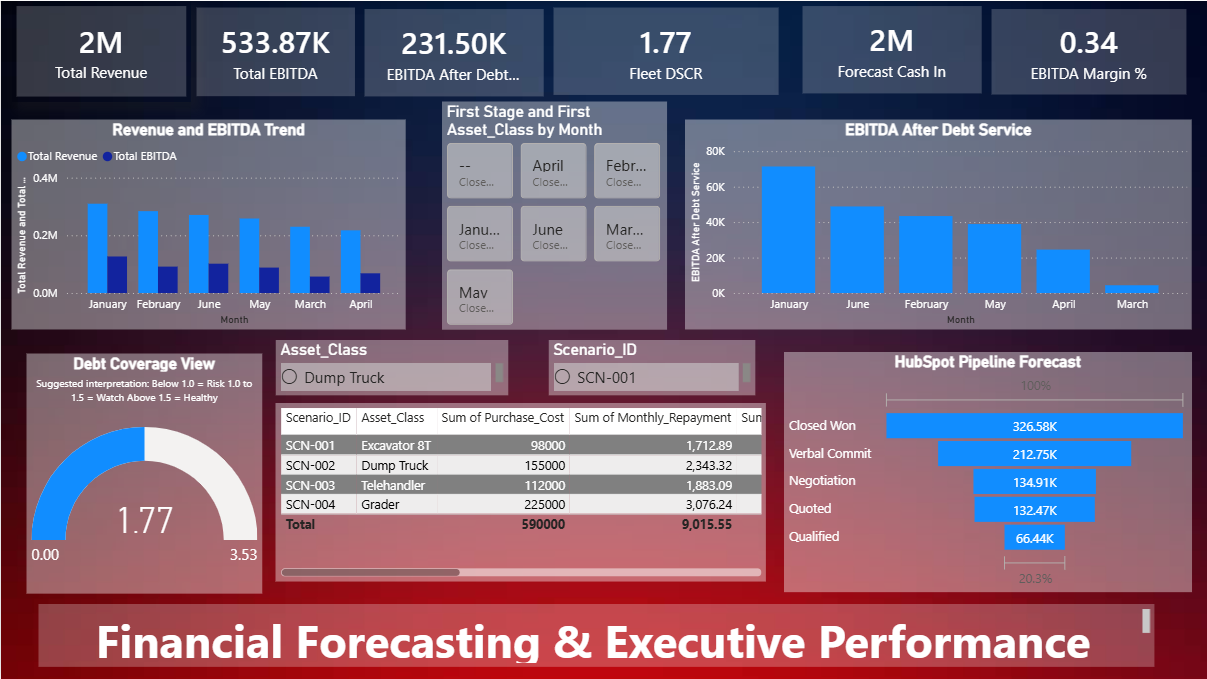

This screenshot's page, from the dashboard's own definition file:
{"tool":"powerbi","page":{"name":"Financial Forecasting & Executive Performance Dashboard","canvas":[1280,720],"ordinal":1},"visuals":[{"type":"cardVisual","fields":{"Data":["KPIMeasures.Total Revenue"]},"box":[11.1,0,190.9,106.6],"z":0},{"type":"cardVisual","fields":{"Data":["KPIMeasures.Total EBITDA"]},"box":[202,1.6,178.1,105],"z":1000},{"type":"cardVisual","fields":{"Data":["KPIMeasures.EBITDA After Debt Service"]},"box":[380.2,3.2,200.4,103.4],"z":2000},{"type":"cardVisual","fields":{"Data":["KPIMeasures.Fleet DSCR"]},"box":[580.6,1.6,249.7,103.4],"z":3000},{"type":"cardVisual","fields":{"Data":["KPIMeasures.Forecast Cash In"]},"box":[844.6,0,200.4,103.4],"z":4000},{"type":"cardVisual","fields":{"Data":["KPIMeasures.EBITDA Margin %"]},"box":[1045,3.2,217.9,101.8],"z":5000},{"type":"advancedSlicerVisual","fields":{"Values":["FinancialActualsTable.Month"],"Label":["Min(HubSpot_Pipeline.Stage)"]},"box":[467.6,106.6,238.6,241.8],"z":6000},{"type":"textbox","box":[39.8,639.4,1183.4,66.8],"z":7000},{"type":"lineClusteredColumnComboChart","title":"Revenue and EBITDA Trend","fields":{"Y":["KPIMeasures.Total Revenue","KPIMeasures.Total EBITDA"],"Category":["FinancialActualsTable.Month"]},"box":[11.1,125.7,418.3,222.7],"z":8000},{"type":"columnChart","title":"EBITDA After Debt Service","fields":{"Category":["FinancialActualsTable.Month"],"Y":["KPIMeasures.EBITDA After Debt Service"]},"box":[725.3,125.7,537.6,222.7],"z":9000},{"type":"funnel","title":"HubSpot Pipeline Forecast","fields":{"Y":["Sum(HubSpotPipelineTable.Weighted_Value)"],"Category":["HubSpotPipelineTable.Stage"]},"box":[830.3,372.2,432.6,254.5],"z":10000},{"type":"gauge","title":"Debt Coverage View","fields":{"Y":["KPIMeasures.Fleet DSCR"]},"box":[27,373.8,249.7,254.5],"z":11000},{"type":"tableEx","fields":{"Values":["What_If_Asset_Purchase.Scenario_ID","What_If_Asset_Purchase.Asset_Class","Sum(What_If_Asset_Purchase.Purchase_Cost)","Sum(What_If_Asset_Purchase.Monthly_Repayment)","Sum(What_If_Asset_Purchase.Expected_Monthly_Revenue)","Sum(What_If_Asset_Purchase.Forecast_EBITDA_Impact)","Sum(What_If_Asset_Purchase.Forecast_DSCR_Impact)","Sum(What_If_Asset_Purchase.Payback_Months)","What_If_Asset_Purchase.Recommendation"]},"box":[291.1,426.3,520.1,189.3],"z":12000},{"type":"listSlicer","fields":{"Values":["What_If_Asset_Purchase.Asset_Class"]},"box":[291.1,359.5,246.5,58.9],"z":12001},{"type":"listSlicer","fields":{"Values":["What_If_Asset_Purchase.Scenario_ID"]},"box":[580.6,359.5,219.5,58.9],"z":12002}]}

Visuals, with their boxes in screenshot pixels (x1, y1, x2, y2), scaled from the page's 1280x720 canvas onto the 1207x679 screenshot:
cardVisual - KPIMeasures.Total Revenue: x1=10 y1=0 x2=190 y2=101
cardVisual - KPIMeasures.Total EBITDA: x1=190 y1=2 x2=358 y2=101
cardVisual - KPIMeasures.EBITDA After Debt Service: x1=359 y1=3 x2=547 y2=101
cardVisual - KPIMeasures.Fleet DSCR: x1=547 y1=2 x2=783 y2=99
cardVisual - KPIMeasures.Forecast Cash In: x1=796 y1=0 x2=985 y2=98
cardVisual - KPIMeasures.EBITDA Margin %: x1=985 y1=3 x2=1191 y2=99
advancedSlicerVisual - FinancialActualsTable.Month x Min(HubSpot_Pipeline.Stage): x1=441 y1=101 x2=666 y2=329
textbox: x1=38 y1=603 x2=1153 y2=666
"Revenue and EBITDA Trend" lineClusteredColumnComboChart: x1=10 y1=119 x2=405 y2=329
"EBITDA After Debt Service" columnChart: x1=684 y1=119 x2=1191 y2=329
"HubSpot Pipeline Forecast" funnel: x1=783 y1=351 x2=1191 y2=591
"Debt Coverage View" gauge: x1=25 y1=353 x2=261 y2=593
tableEx - What_If_Asset_Purchase.Scenario_ID x What_If_Asset_Purchase.Asset_Class: x1=274 y1=402 x2=765 y2=581
listSlicer - What_If_Asset_Purchase.Asset_Class: x1=274 y1=339 x2=507 y2=395
listSlicer - What_If_Asset_Purchase.Scenario_ID: x1=547 y1=339 x2=754 y2=395
